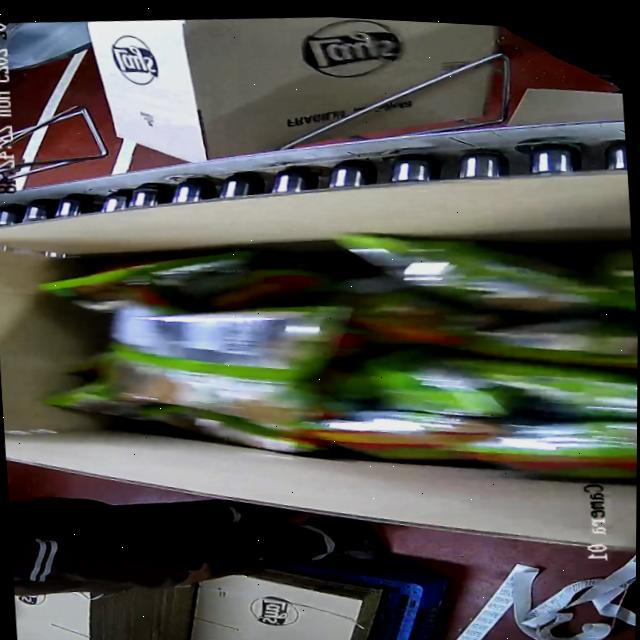YOGURT_HERB: (19, 200, 639, 522)
